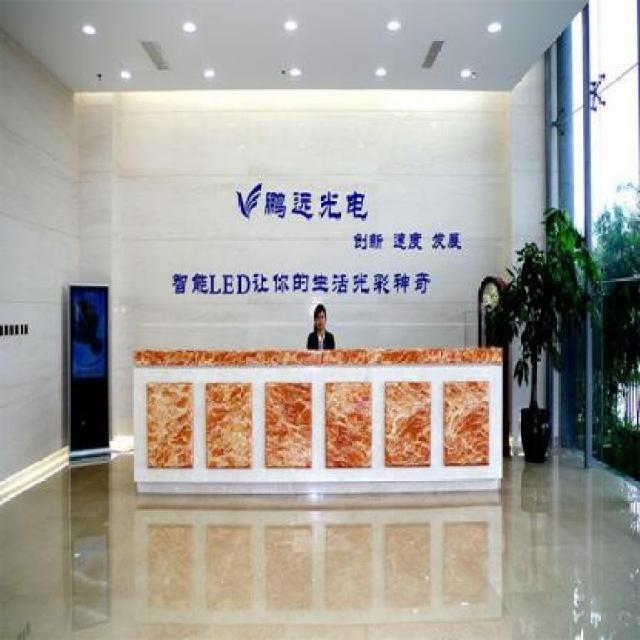frontdesk: (128, 332, 508, 510)
